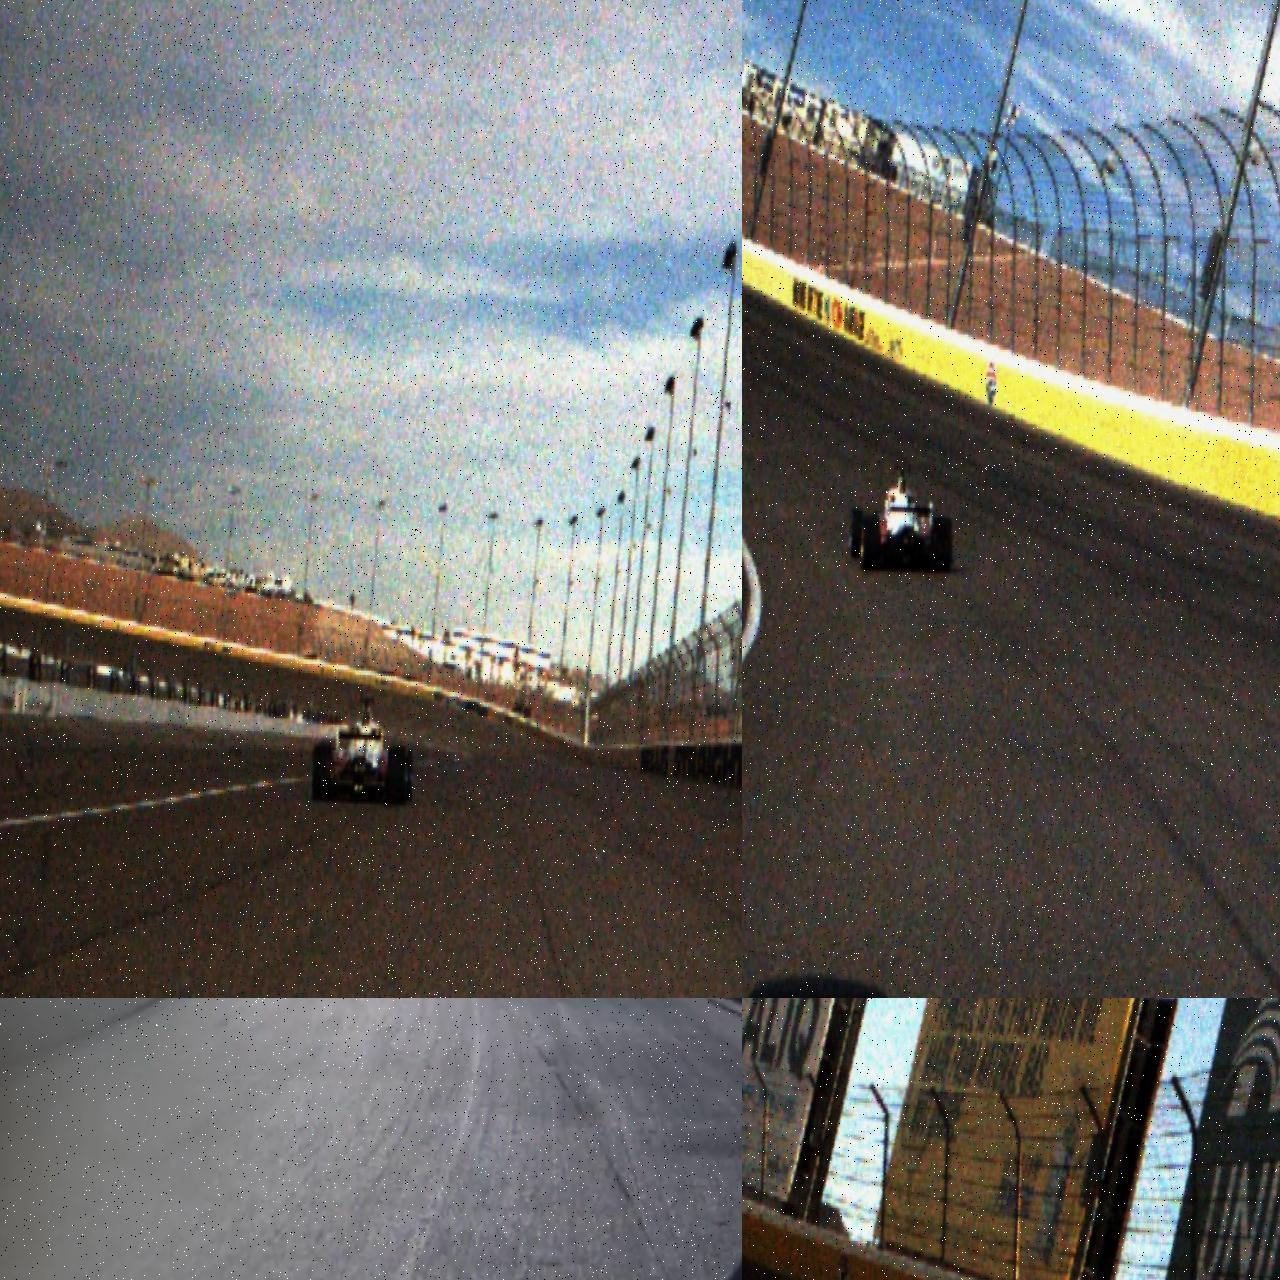AV: (847, 464, 955, 574), (311, 696, 416, 805)
Wheel: (386, 745, 406, 804), (862, 513, 881, 571), (933, 516, 953, 573), (312, 745, 332, 802), (850, 509, 864, 558)
